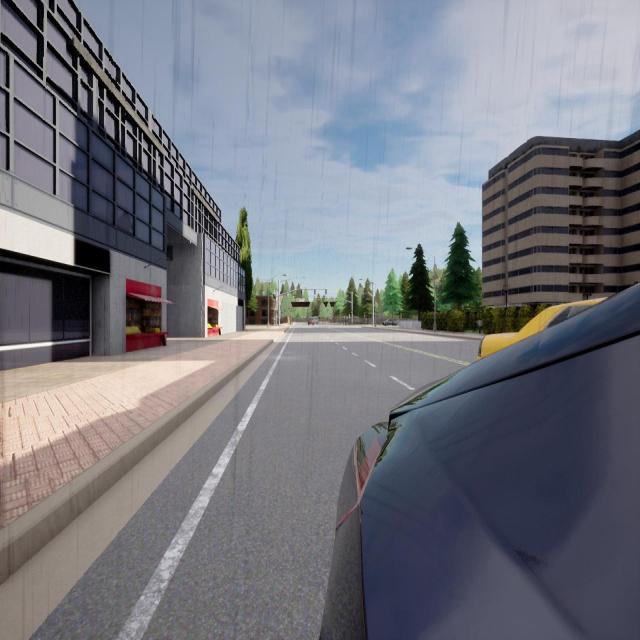Vehicle: (321, 286, 640, 640), (479, 299, 605, 359), (383, 319, 397, 326), (308, 318, 314, 325)
traffic_light: (351, 310, 353, 314), (314, 290, 316, 294), (318, 299, 320, 302), (327, 298, 328, 302), (301, 290, 302, 294), (336, 298, 337, 301), (326, 290, 326, 294)
